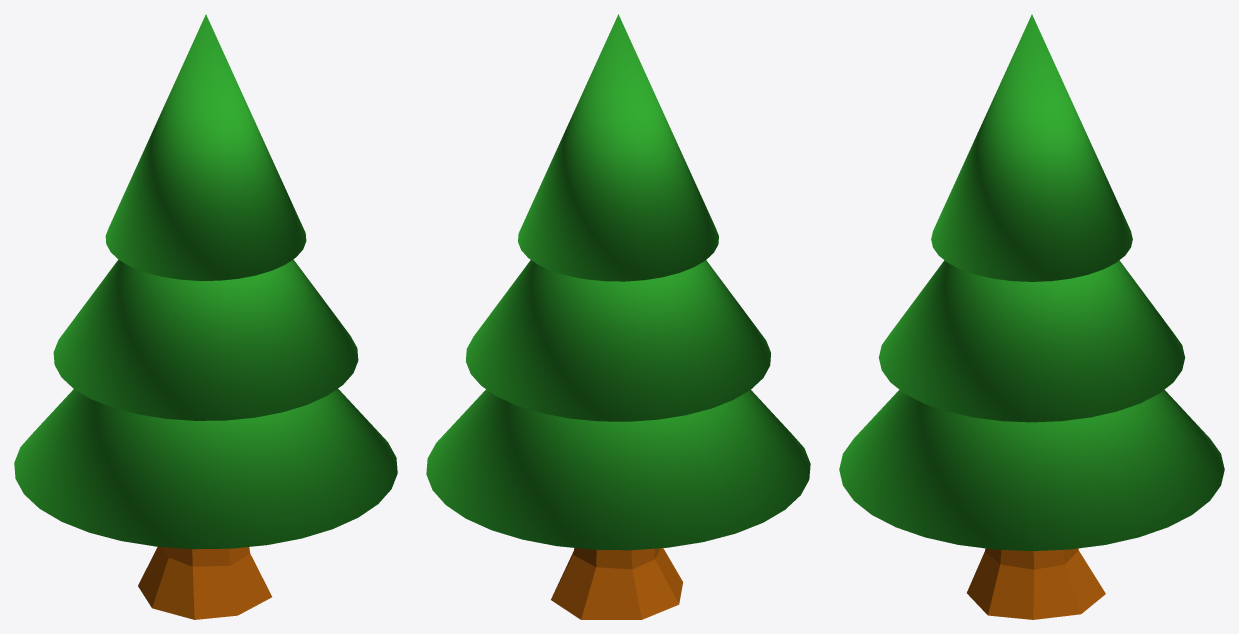
Rendered from Tree_Cone1.fbx.
The picture shows the model from 3 angles, left to right: view 1: azimuth 30°, elevation 25°; view 2: azimuth 150°, elevation 25°; view 3: azimuth 270°, elevation 25°; orthographic projection.
Visible parts, largest first — view 1: Tree_Cone1; view 2: Tree_Cone1; view 3: Tree_Cone1.
Boxes of the visible parts, box(x1,y1,x2,y2) form: Tree_Cone1: box(14, 14, 397, 619); Tree_Cone1: box(426, 14, 810, 619); Tree_Cone1: box(839, 14, 1224, 619).
Size of the model in its own units: 5.5 by 5.5 by 9.13.
